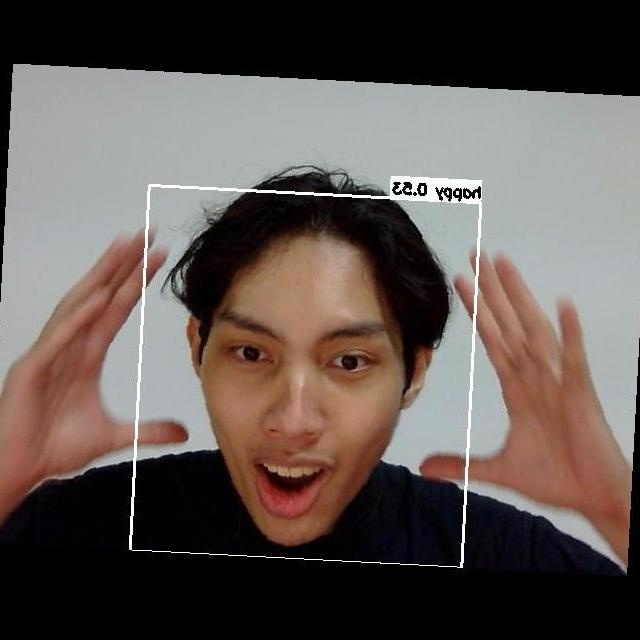Surprised: (198, 293, 407, 521)
